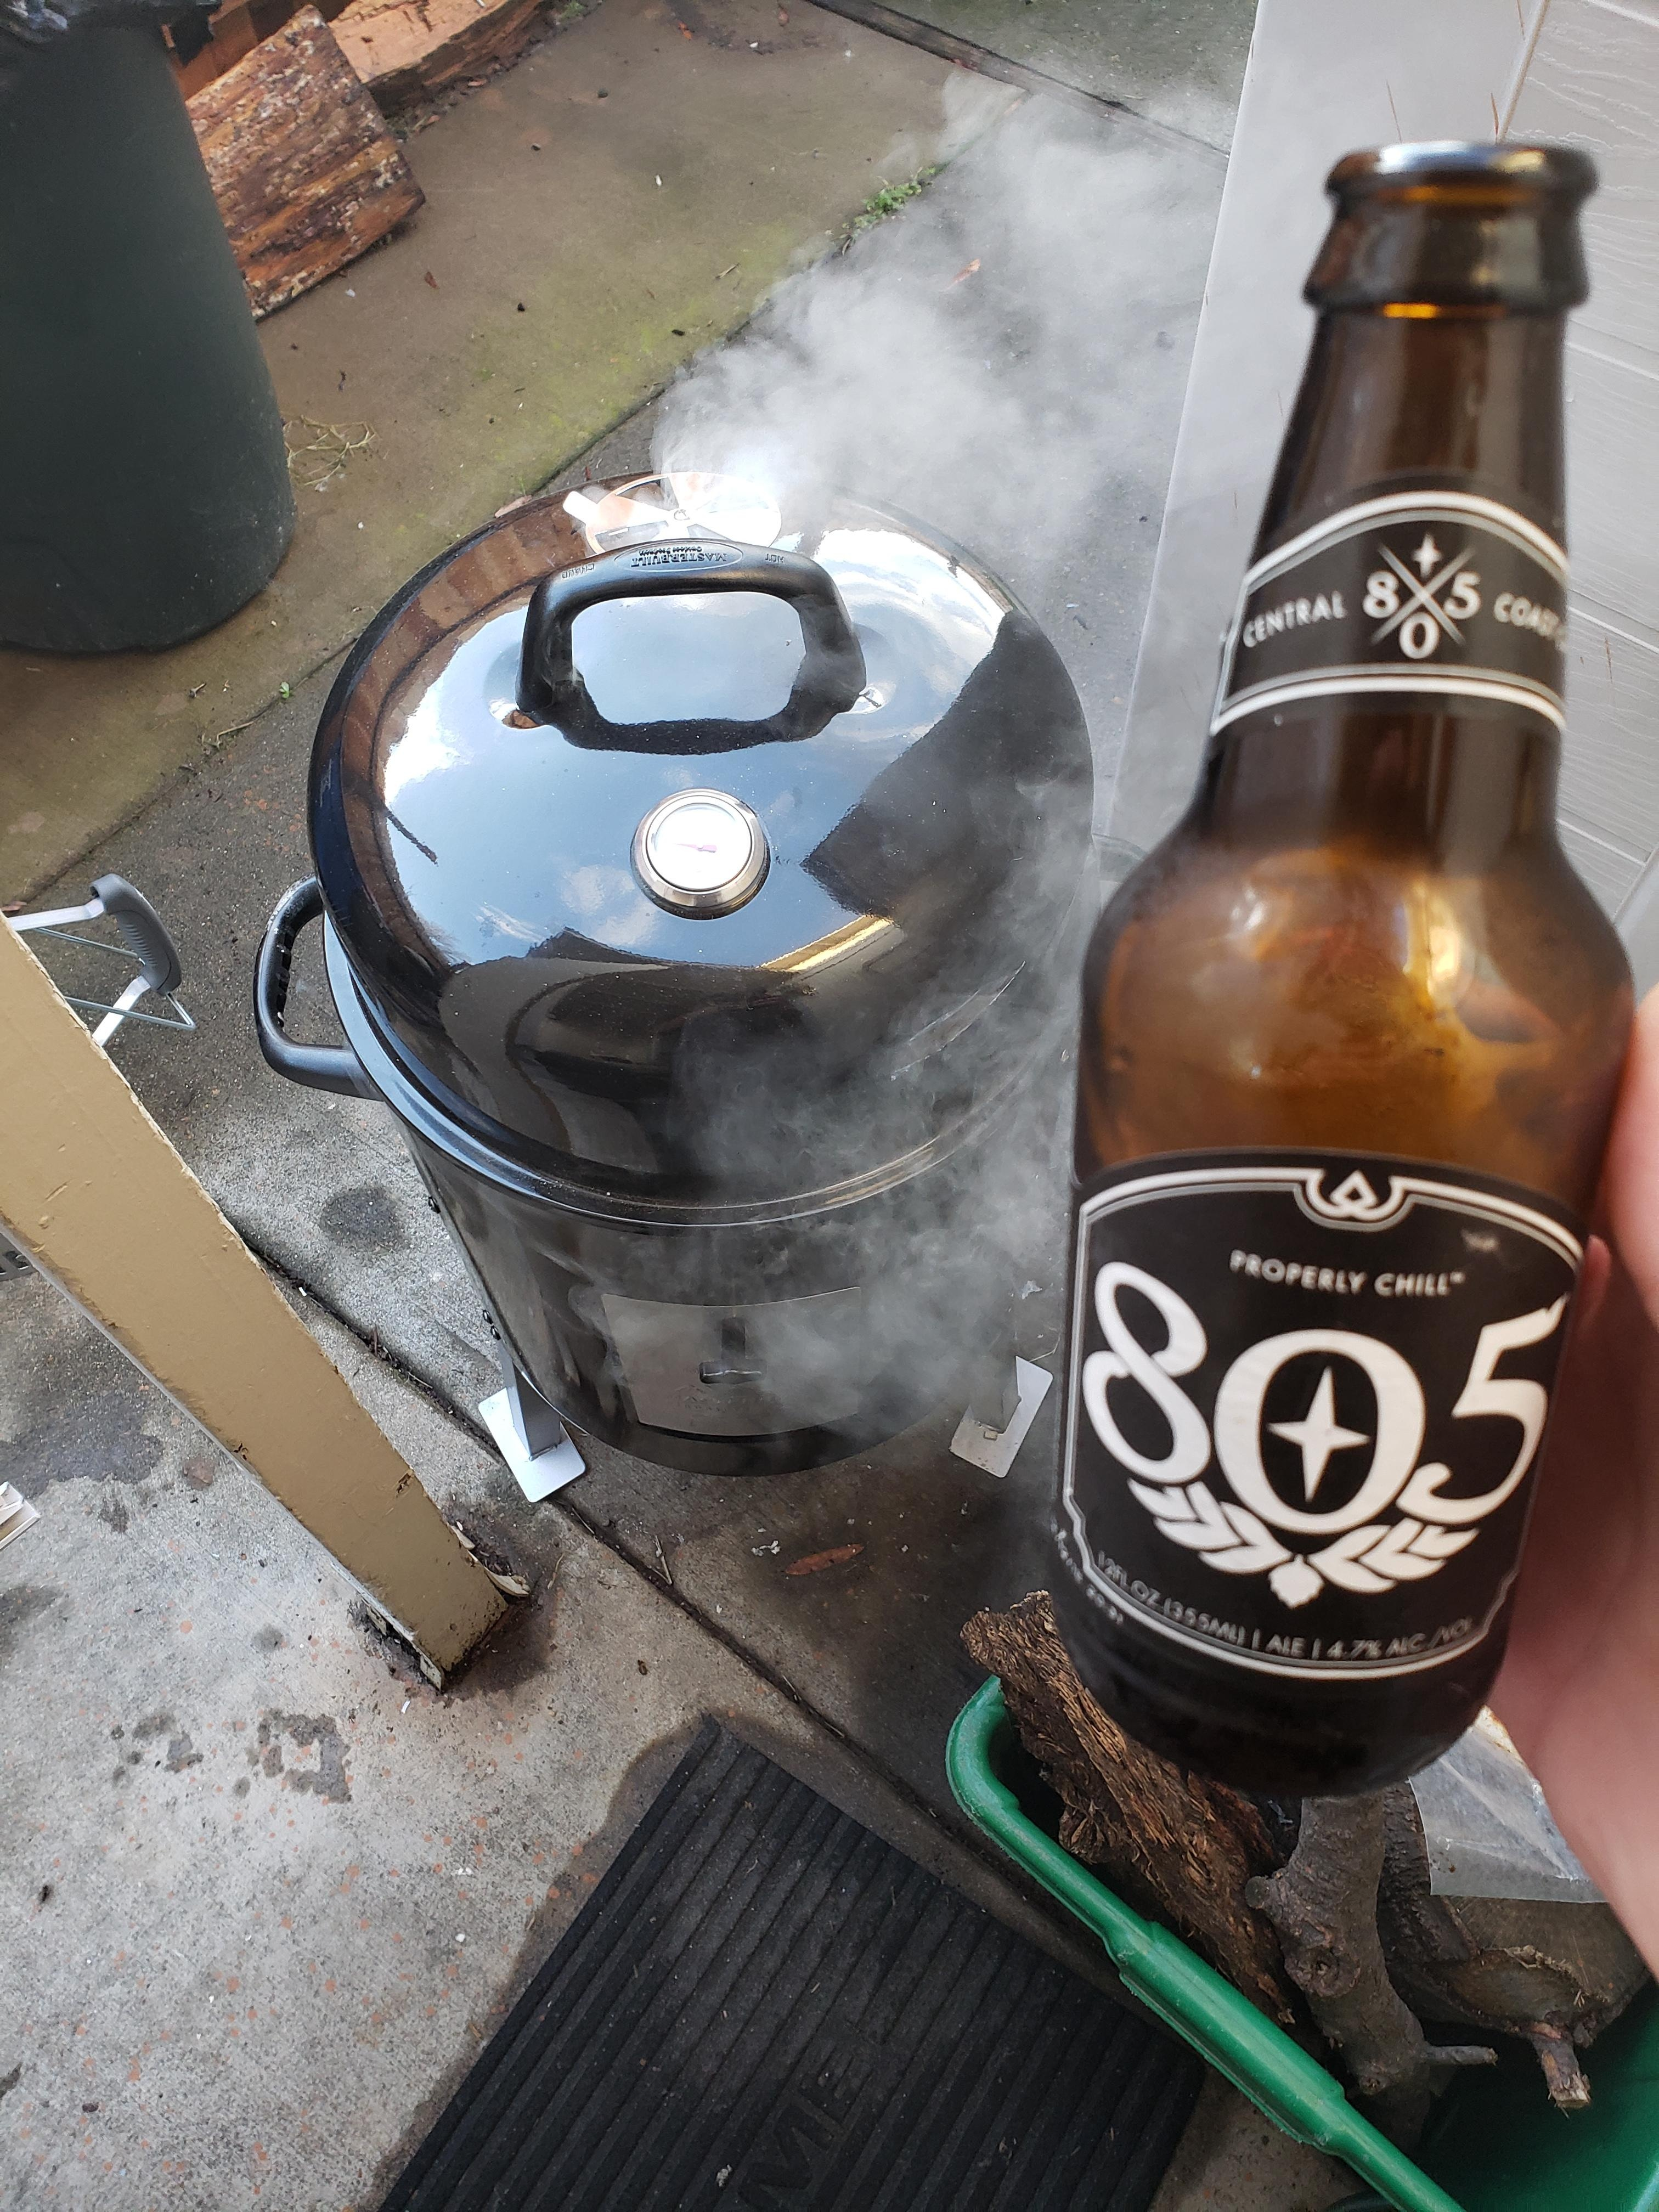beerBottle: (1073, 143, 1629, 1799)
